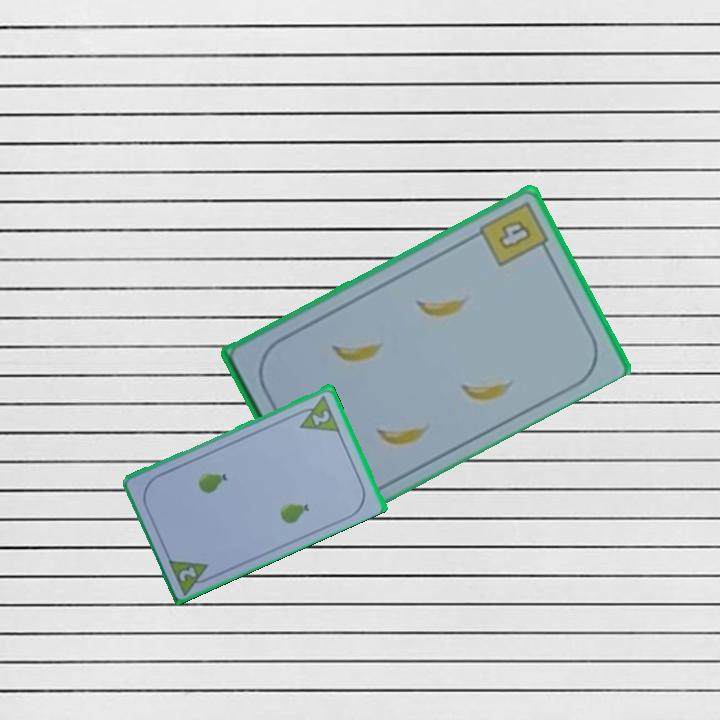2p: (292, 391, 342, 434), (175, 562, 200, 584)
4b: (475, 197, 554, 269)
